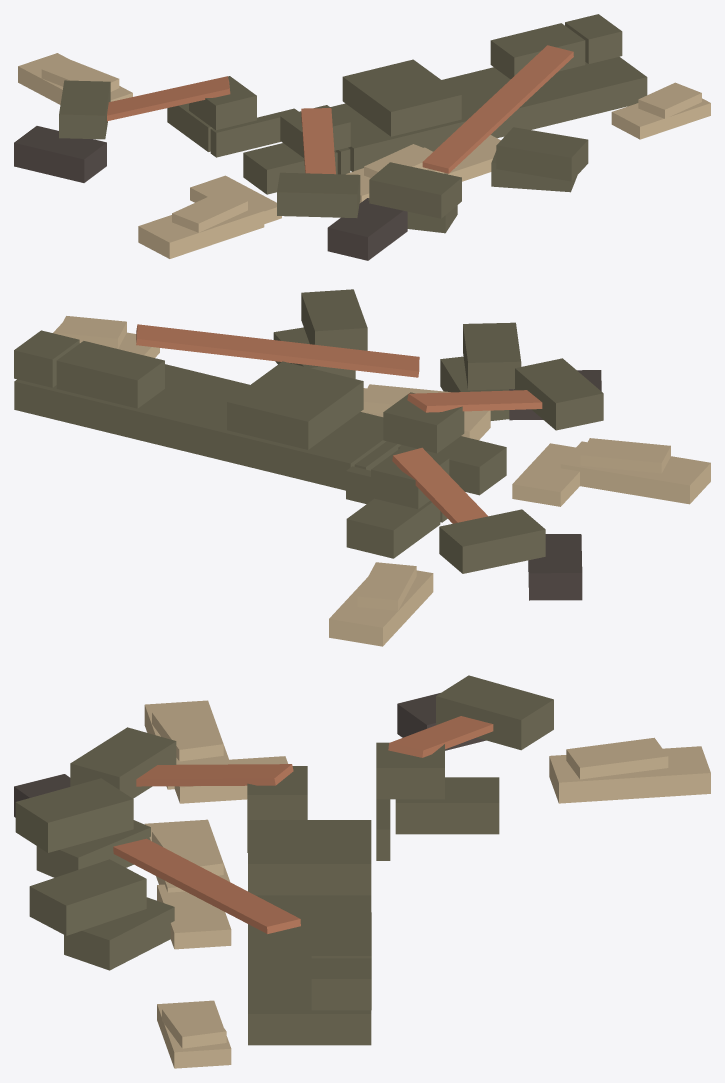
The model's file is SM_SacosRemate_v3_Tablon_e2_MuyDanado_LOD1.fbx.
3 views of the same model, one above another, from view 1: azimuth 30°, elevation 25°; view 2: azimuth 150°, elevation 25°; view 3: azimuth 270°, elevation 25° (orthographic). The views are drawn at different scales.
Visible parts, largest first — view 1: SM_sacos_piezas_v34_LOD1; view 2: SM_sacos_piezas_v34_LOD1; view 3: SM_sacos_piezas_v34_LOD1.
Part boxes in pixels (<box>): SM_sacos_piezas_v34_LOD1: <box>14,14,710,260</box>; SM_sacos_piezas_v34_LOD1: <box>14,289,710,646</box>; SM_sacos_piezas_v34_LOD1: <box>14,675,710,1068</box>.
Size of the model in its own units: 6.58 by 0.6798 by 5.44.
